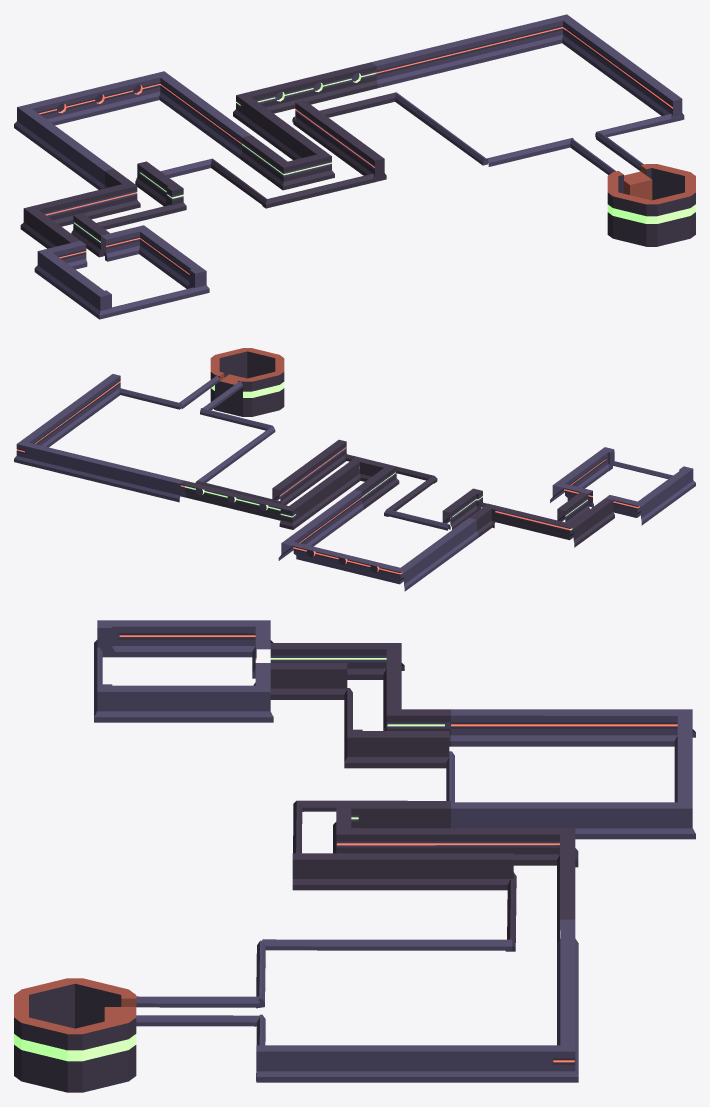
The model's file is Rooms.fbx.
The picture shows the model from 3 angles, top to bottom: view 1: azimuth 30°, elevation 25°; view 2: azimuth 150°, elevation 25°; view 3: azimuth 270°, elevation 25°; orthographic projection. The views are drawn at different scales.
Visible parts, largest first — view 1: honeycomb.001, Wall L.132, Wall L.135, Wall L.113, Wall Straight.005, Wall L.118, Wall Straight.004, Wall L.117, Wall L.110, Wall L.120, Wall L.130, Wall L.115 (+16 smaller); view 2: honeycomb.001, Wall L.132, Wall L.113, Wall L.135, Wall L.117, Wall L.118, Wall L.120, Wall L.130, Wall Straight.005, Wall Straight.004, Wall L.110, Wall L.126 (+12 smaller); view 3: honeycomb.001, Wall L.135, Wall L.117, Wall L.118, Wall L.110, Wall L.130, Wall L.120, Wall L.126, Wall L.115, Wall L.113, Wall L.125, Wall L.133 (+12 smaller).
Boxes of the visible parts, left/top/right/bottom form: honeycomb.001: left=607, top=164, right=695, bottom=246; Wall L.132: left=371, top=17, right=562, bottom=87; Wall L.135: left=563, top=20, right=684, bottom=119; Wall L.113: left=20, top=185, right=124, bottom=248; Wall Straight.005: left=250, top=62, right=377, bottom=113; Wall L.118: left=141, top=71, right=251, bottom=158; Wall Straight.004: left=31, top=77, right=147, bottom=125; Wall L.117: left=14, top=104, right=113, bottom=189; Wall L.110: left=101, top=225, right=198, bottom=288; Wall L.120: left=34, top=240, right=101, bottom=312; Wall L.130: left=240, top=98, right=324, bottom=160; Wall L.115: left=97, top=161, right=186, bottom=229; honeycomb.001: left=210, top=348, right=284, bottom=416; Wall L.132: left=25, top=443, right=185, bottom=502; Wall L.113: left=496, top=498, right=614, bottom=547; Wall L.135: left=24, top=374, right=120, bottom=447; Wall L.117: left=392, top=518, right=478, bottom=591; Wall L.118: left=278, top=490, right=363, bottom=561; Wall L.120: left=606, top=471, right=688, bottom=525; Wall L.130: left=290, top=460, right=360, bottom=524; Wall Straight.005: left=180, top=480, right=285, bottom=520; Wall Straight.004: left=300, top=544, right=397, bottom=583; Wall L.110: left=550, top=451, right=608, bottom=507; Wall L.126: left=272, top=459, right=319, bottom=504; honeycomb.001: left=14, top=978, right=136, bottom=1092; Wall L.135: left=256, top=1045, right=553, bottom=1082; Wall L.117: left=451, top=709, right=695, bottom=746; Wall L.118: left=451, top=793, right=695, bottom=839; Wall L.110: left=117, top=663, right=273, bottom=722; Wall L.130: left=351, top=828, right=561, bottom=865; Wall L.120: left=117, top=620, right=273, bottom=678; Wall L.126: left=380, top=853, right=513, bottom=890; Wall L.115: left=344, top=688, right=449, bottom=768; Wall L.113: left=270, top=643, right=404, bottom=729; Wall L.125: left=292, top=853, right=380, bottom=890; Wall L.133: left=262, top=939, right=512, bottom=950.
Size of the model in its own units: 24891 by 2081 by 16522.
